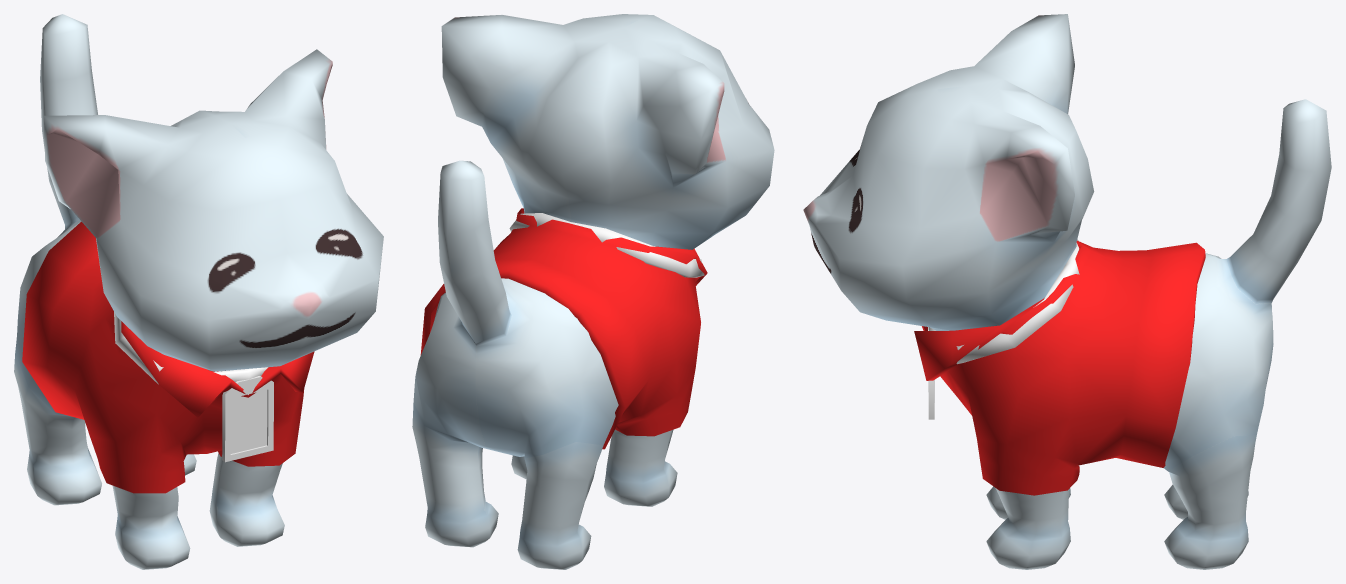
File: LAMBs Cat05.fbx
The picture shows the model from 3 angles, left to right: view 1: azimuth 30°, elevation 25°; view 2: azimuth 150°, elevation 25°; view 3: azimuth 270°, elevation 25°; orthographic projection. The views are drawn at different scales.
Parts seen in each view (by area): view 1: Cat_Base004, LAMBs_Cat_Shirt, LAMBs_Cat_ID; view 2: Cat_Base004, LAMBs_Cat_Shirt, LAMBs_Cat_ID; view 3: Cat_Base004, LAMBs_Cat_Shirt, LAMBs_Cat_ID.
Boxes of the visible parts, x1=… form: Cat_Base004: x1=14, y1=14, x2=383, y2=569; LAMBs_Cat_Shirt: x1=22, y1=221, x2=314, y2=493; LAMBs_Cat_ID: x1=114, y1=312, x2=273, y2=462; Cat_Base004: x1=412, y1=14, x2=774, y2=569; LAMBs_Cat_Shirt: x1=420, y1=208, x2=707, y2=449; LAMBs_Cat_ID: x1=509, y1=213, x2=704, y2=277; Cat_Base004: x1=803, y1=14, x2=1331, y2=569; LAMBs_Cat_Shirt: x1=914, y1=240, x2=1205, y2=495; LAMBs_Cat_ID: x1=928, y1=239, x2=1079, y2=419.
Size of the model in its own units: 1.75 by 2.83 by 2.68.
Materials: 3 (1 with a texture image).
